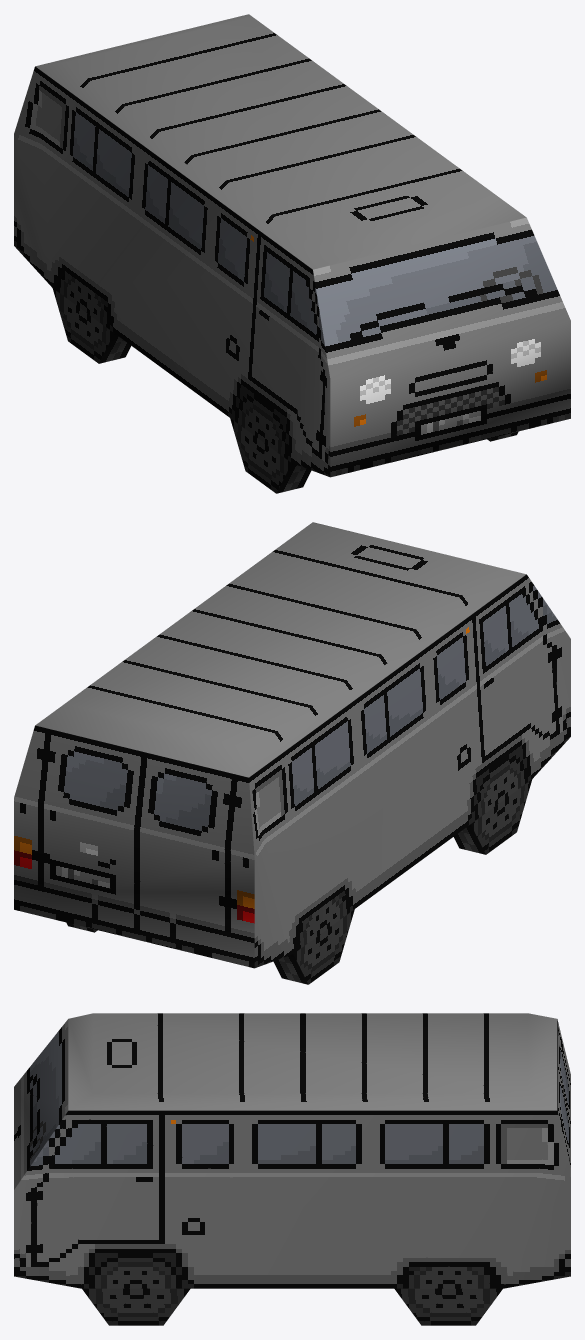
Rendered from sv-uaz452-grey.glb.
3 views of the same model, one above another, from view 1: azimuth 30°, elevation 25°; view 2: azimuth 150°, elevation 25°; view 3: azimuth 270°, elevation 25° (orthographic). The views are drawn at different scales.
Parts seen in each view (by area): view 1: sv-uaz452-grey-mesh; view 2: sv-uaz452-grey-mesh; view 3: sv-uaz452-grey-mesh.
Boxes of the visible parts, <box> form: sv-uaz452-grey-mesh: <box>14,14,570,493</box>; sv-uaz452-grey-mesh: <box>14,522,570,984</box>; sv-uaz452-grey-mesh: <box>14,1013,570,1325</box>.
Size of the model in its own units: 18 by 17.92 by 41.
1 material, 1 textured.
